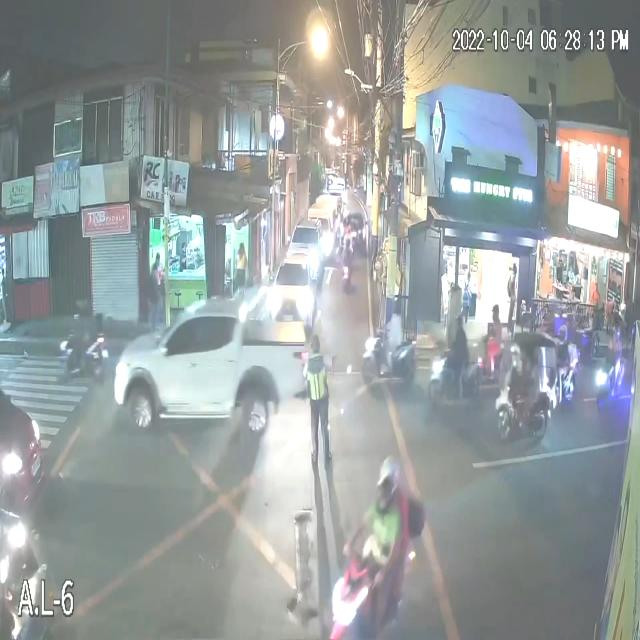Full-Faced: (375, 450, 402, 502)
